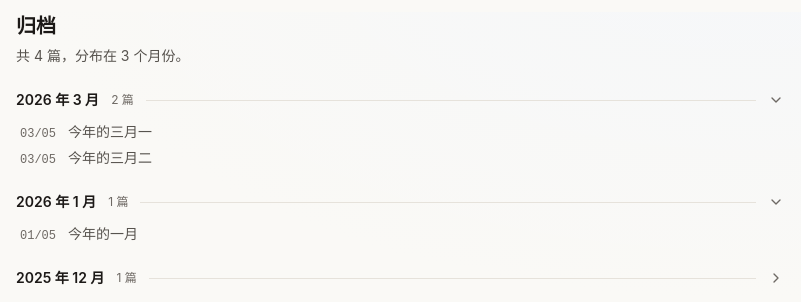
ArchiveView · 折叠规则 › 手动收起当年的分组后，默认规则不许把它重新展开
Click the button "2026 年 3 月 2 篇": (58, 100) x1=16 y1=90 x2=784 y2=110
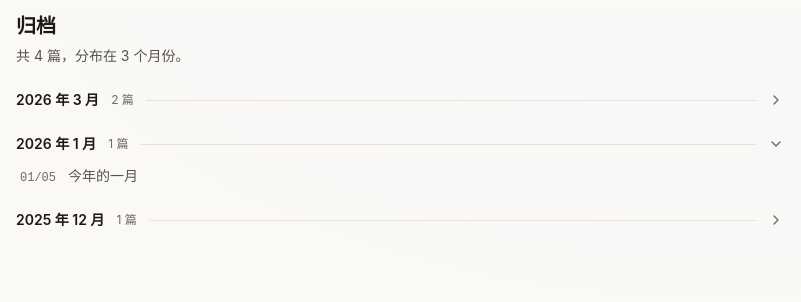
Now the button "2026 年 3 月 2 篇" is collapsed, box x1=16 y1=90 x2=784 y2=110
